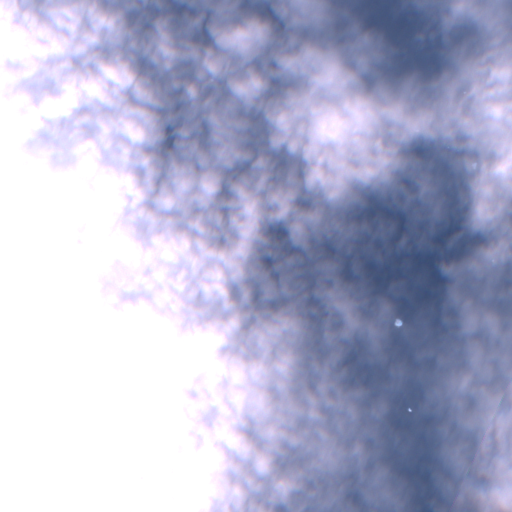Iceberg: (394, 319, 402, 326), (407, 408, 411, 411)
